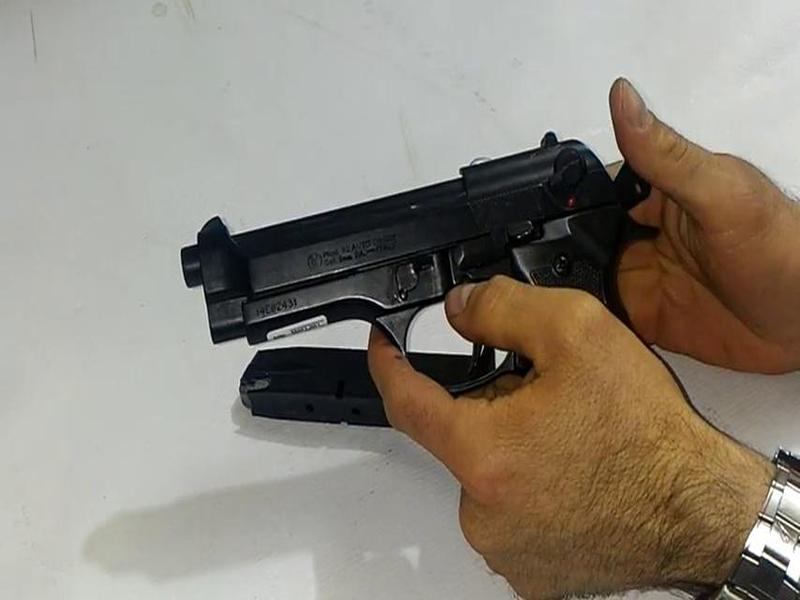Pistola: (157, 118, 682, 473)
